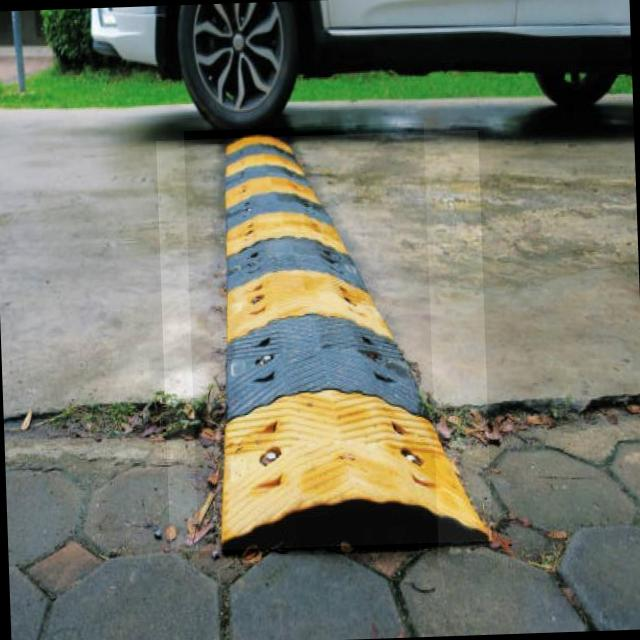bump: (183, 122, 438, 558)
